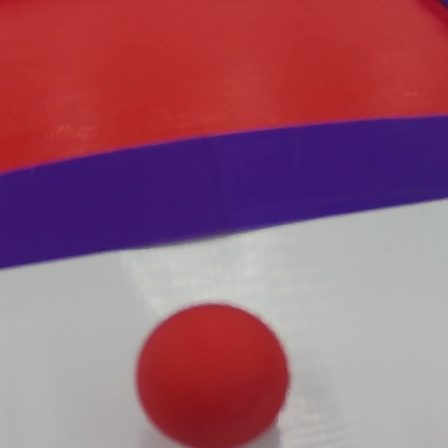red: (134, 289, 291, 448)
red_aim: (0, 0, 447, 265)
